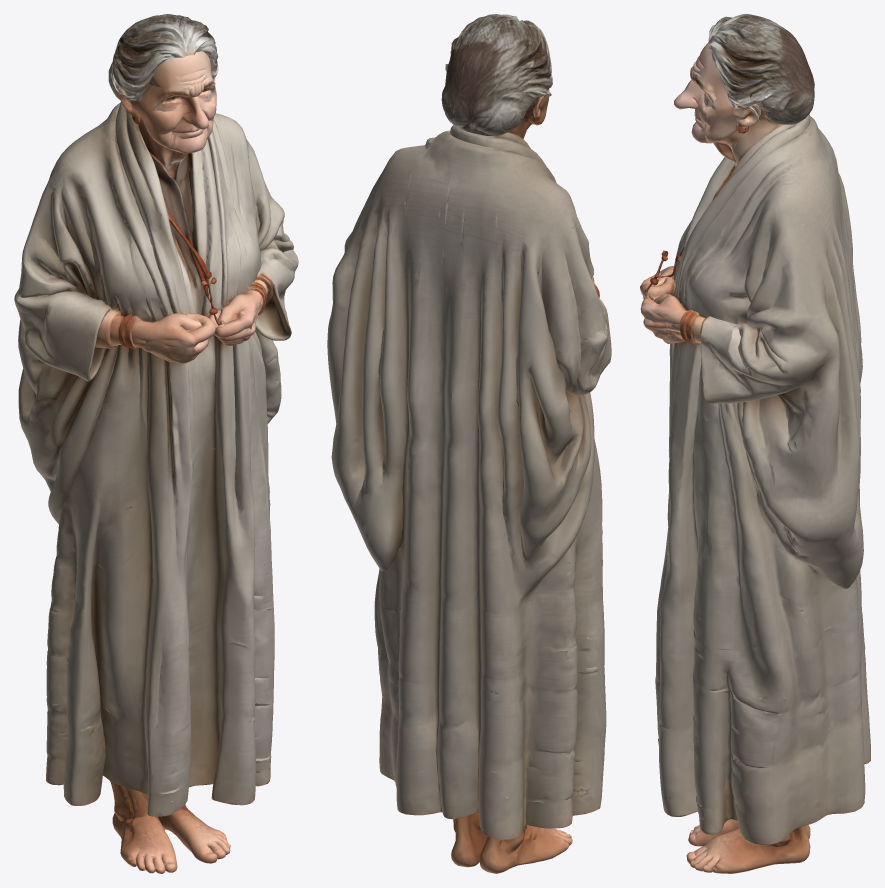
File: crowd_grandmother_rodin_source.glb
3 renders of one model, left to right at view 1: azimuth 30°, elevation 25°; view 2: azimuth 150°, elevation 25°; view 3: azimuth 270°, elevation 25°, orthographic.
Visible parts, largest first — view 1: model; view 2: model; view 3: model.
Part boxes in pixels (<box>): model: <box>14,14,298,873</box>; model: <box>327,14,611,873</box>; model: <box>640,14,870,873</box>.
Bounding box in the file's own units: 0.6507 × 1.9 × 0.4756.
Materials: 1 (1 with a texture image).
